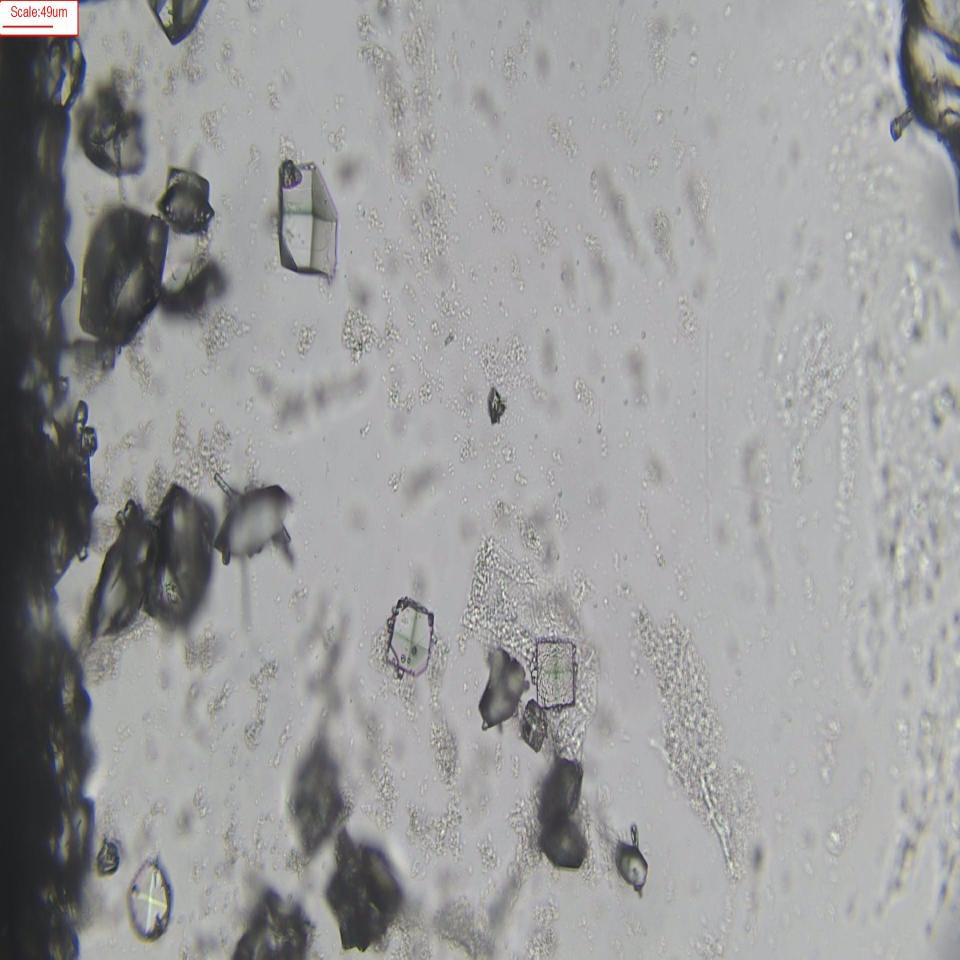crystal: (273, 158, 339, 285), (331, 837, 405, 946), (478, 636, 532, 730), (531, 631, 586, 710), (125, 857, 175, 937), (385, 594, 436, 667), (612, 839, 654, 896), (520, 697, 548, 748), (484, 378, 507, 426)
not_crystal: (539, 761, 587, 852)
